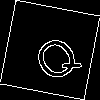Q: (25, 25, 85, 87)
